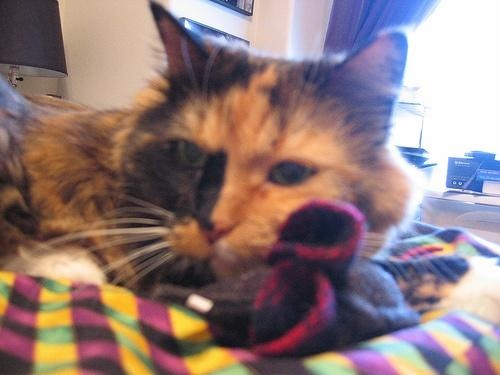cat: (22, 2, 426, 291)
